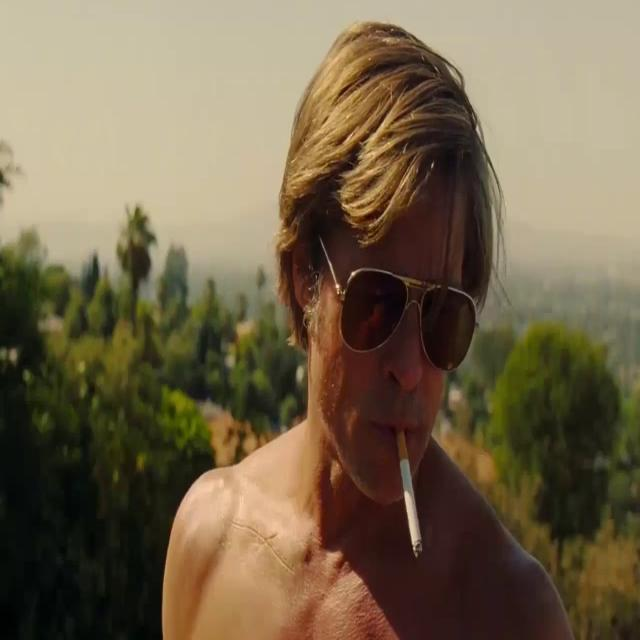Smooking: (393, 421, 430, 572)
